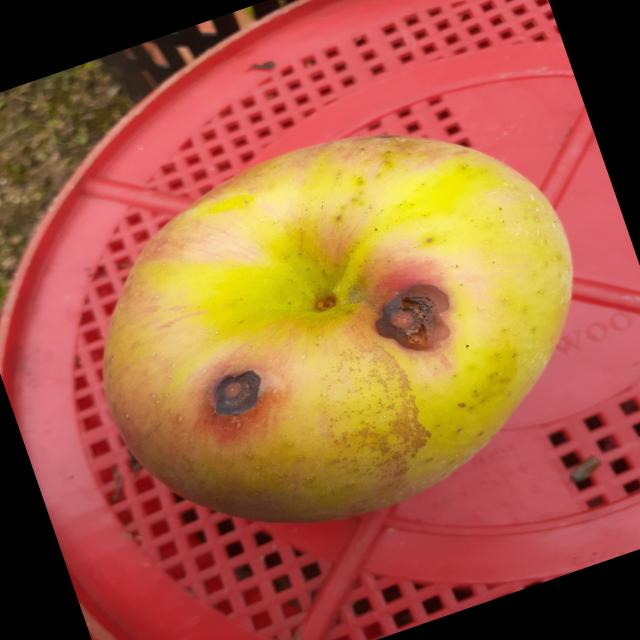rotten: (40, 61, 640, 593)
